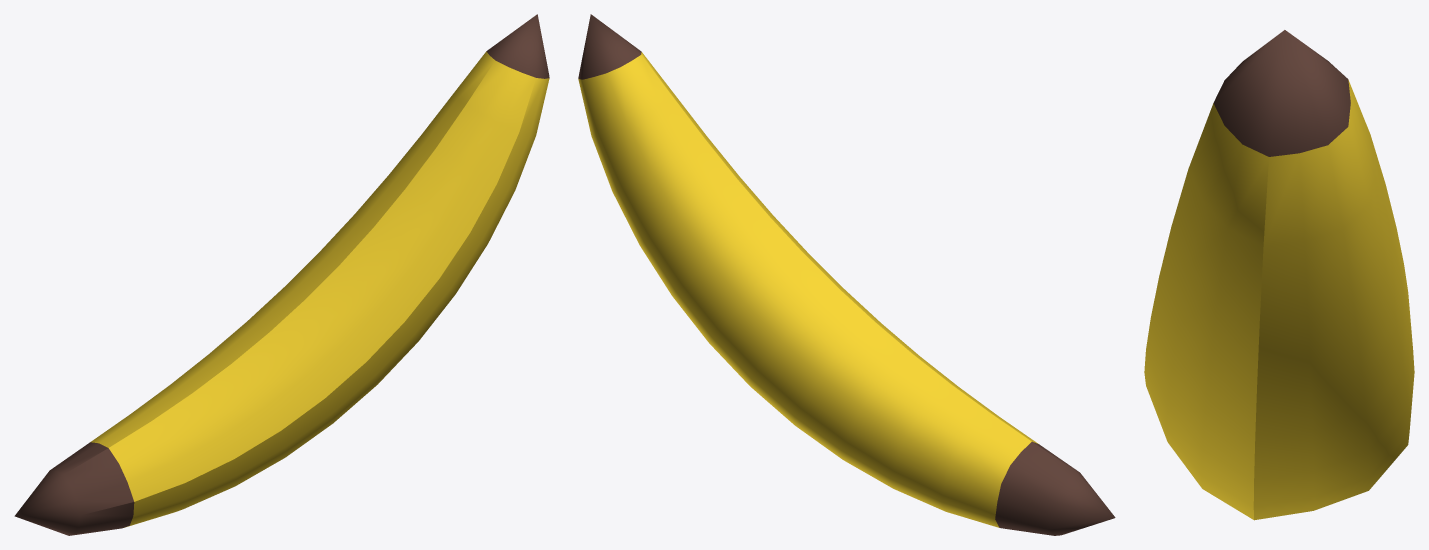
Rendered from Banana.fbx.
3 renders of one model, left to right at view 1: azimuth 30°, elevation 25°; view 2: azimuth 150°, elevation 25°; view 3: azimuth 270°, elevation 25°, orthographic. The views are drawn at different scales.
Visible parts, largest first — view 1: Banana; view 2: Banana; view 3: Banana.
Boxes of the visible parts, x1,y1,x2,y2 form: Banana: (14, 14, 549, 535); Banana: (578, 14, 1115, 535); Banana: (1144, 30, 1414, 520).
Bounding box in the file's own units: 0.1497 × 0.1099 × 0.033.
